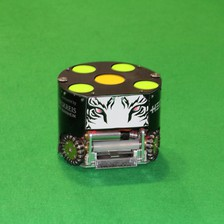robot: (50, 57, 165, 171)
